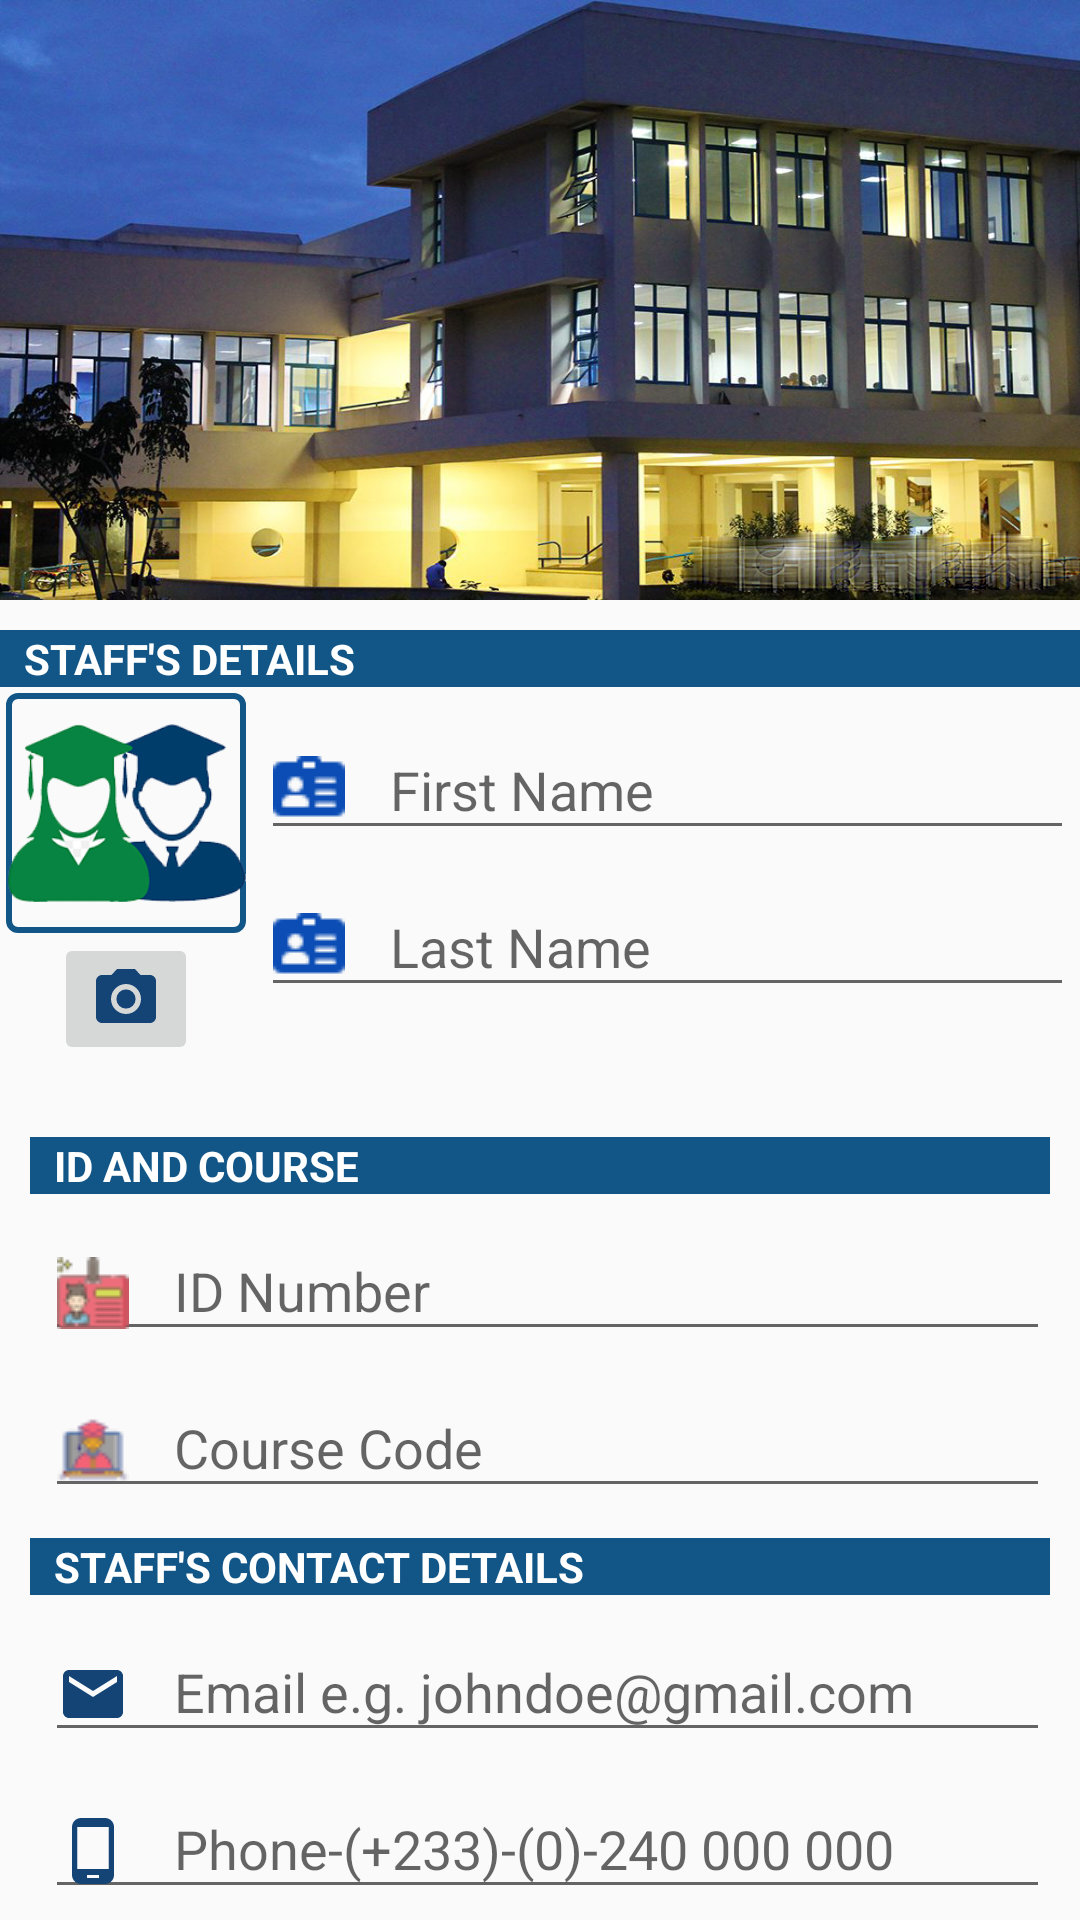

Where icons sit on this 1080×1920 app screen, as (x1, y1, x2, y2):
camera: (66, 951, 186, 1047)
students: (6, 693, 246, 933)
